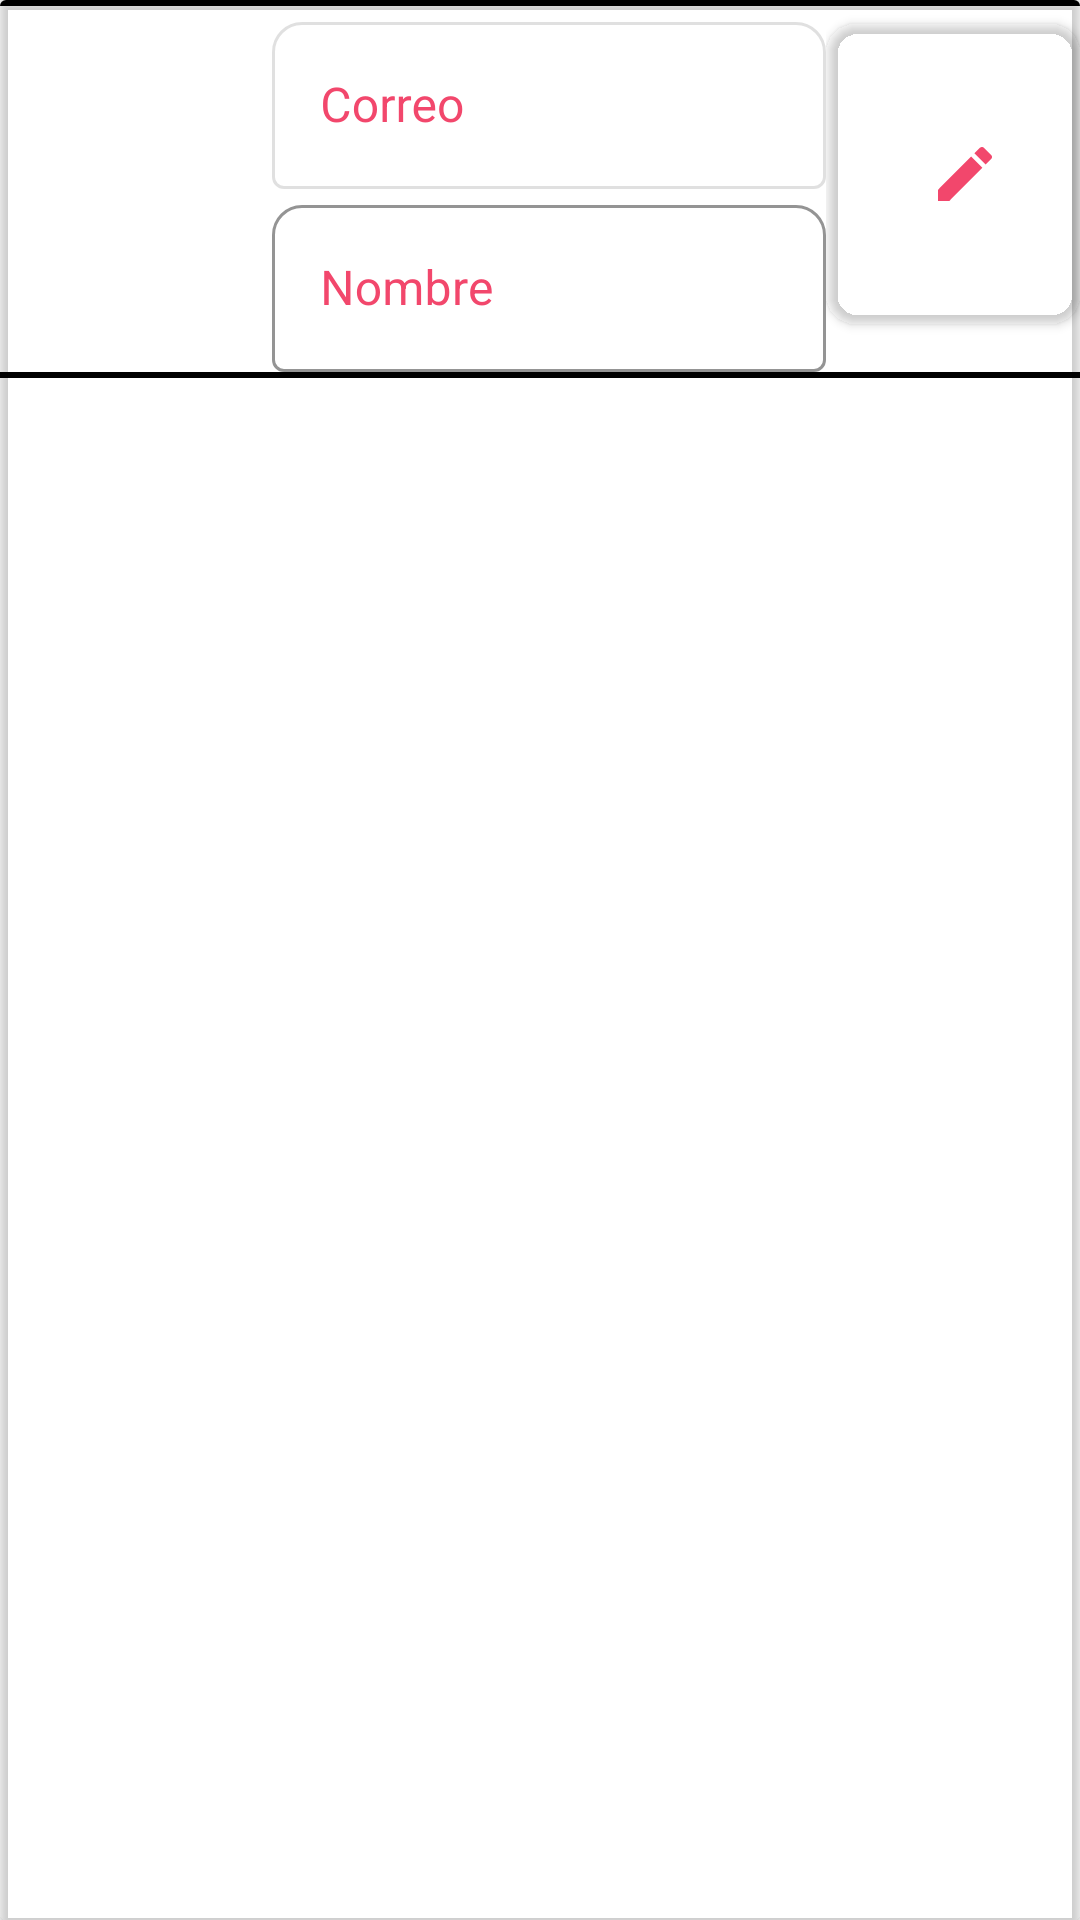

Named icons in this screenshot (1080px×1920px) and their centers, (x,y):
card edit: (953,174)
